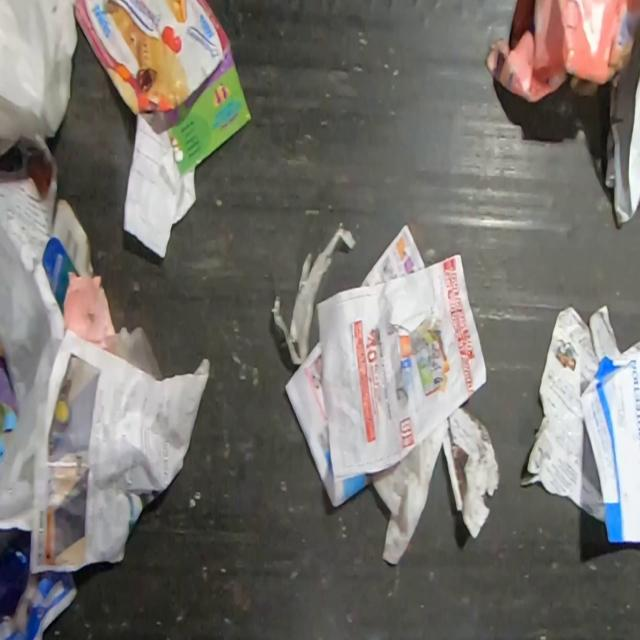cardboard: (72, 0, 252, 181), (483, 0, 640, 106)
soft_plastic: (269, 221, 359, 367), (91, 324, 166, 381)
